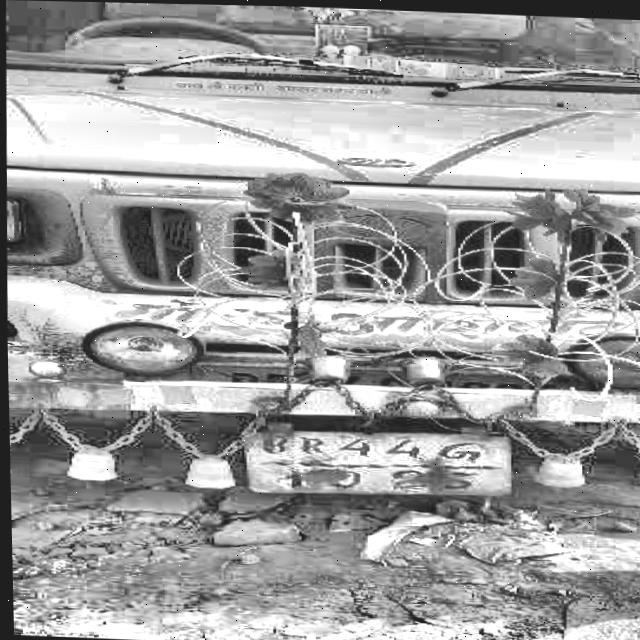light_vehicle: (0, 0, 640, 515)
